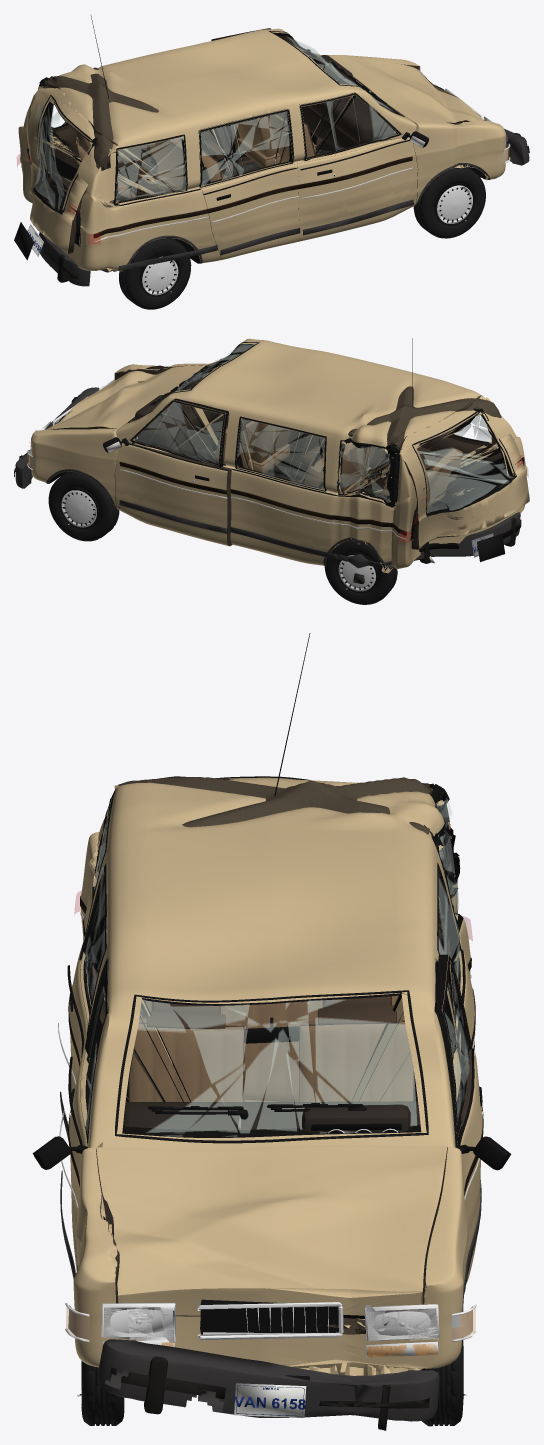
The model's file is minivan86_rear_corner_d1_lod1.glb.
3 views of the same model, one above another, from view 1: azimuth 30°, elevation 25°; view 2: azimuth 150°, elevation 25°; view 3: azimuth 270°, elevation 25° (orthographic). The views are drawn at different scales.
Parts seen in each view (by area): view 1: Body, Interior, Door_FR, Door_SR, Liftgate, Hood, Glass, Wheel_FR_mesh, Wheel_RR_mesh, Trim, Glass_SR, Trim_FR (+8 smaller); view 2: Body, Door_FL, Interior, Liftgate, Glass, Hood, Trim, Glass_Liftgate, Wheel_FL_mesh, Wheel_RL_mesh, Glass_FL, Trim_FL (+5 smaller); view 3: Body, Hood, Interior, Glass, Bumper_F, Ends, Door_FL, Trim, Lamps_Head, Door_FR, Trim_FL, Trim_FR (+7 smaller).
Boxes of the visible parts, x1,y1,x2,y2 form: Body: (18, 28, 505, 272); Interior: (75, 55, 395, 198); Door_FR: (297, 92, 417, 241); Door_SR: (198, 109, 299, 259); Liftgate: (26, 78, 119, 253); Hood: (329, 55, 483, 124); Glass: (38, 31, 404, 203); Wheel_FR_mesh: (413, 167, 485, 238); Wheel_RR_mesh: (119, 238, 191, 309); Trim: (20, 14, 490, 271); Glass_SR: (198, 112, 293, 187); Trim_FR: (298, 93, 428, 235); Body: (31, 338, 526, 574); Door_FL: (115, 398, 232, 546); Interior: (135, 372, 462, 505); Liftgate: (394, 395, 529, 549); Glass: (127, 342, 491, 506); Hood: (45, 365, 205, 429); Trim: (46, 338, 462, 573); Glass_Liftgate: (412, 408, 516, 516); Wheel_FL_mesh: (48, 471, 119, 541); Wheel_RL_mesh: (324, 540, 397, 604); Glass_FL: (135, 399, 226, 467); Trim_FL: (103, 400, 228, 533); Body: (72, 777, 474, 1375); Hood: (96, 1145, 447, 1334); Interior: (123, 995, 420, 1133); Glass: (94, 786, 460, 1143); Bumper_F: (97, 1339, 439, 1430); Ends: (65, 1299, 476, 1417); Door_FL: (434, 954, 482, 1284); Trim: (69, 633, 475, 1311); Lamps_Head: (104, 1306, 438, 1341); Door_FR: (69, 957, 108, 1271); Trim_FL: (442, 956, 511, 1282); Trim_FR: (32, 958, 107, 1278).
Size of the model in its own units: 4.57 by 2.37 by 2.07.
34 materials, 5 textured.
